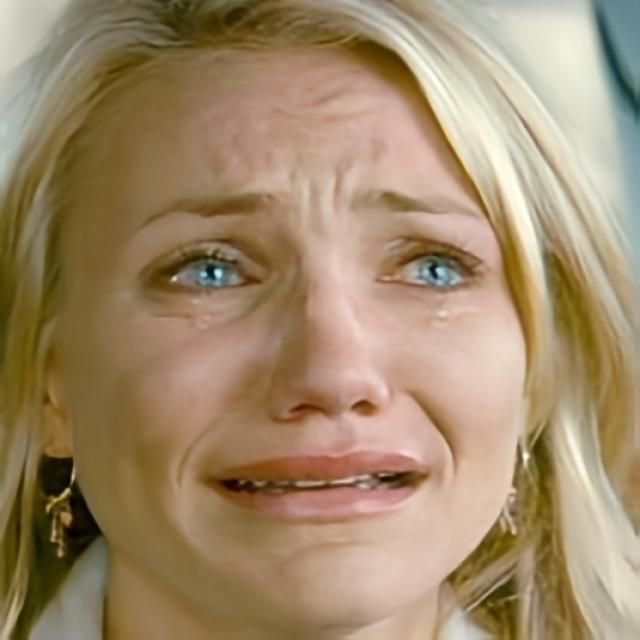sad: (77, 43, 530, 630)
